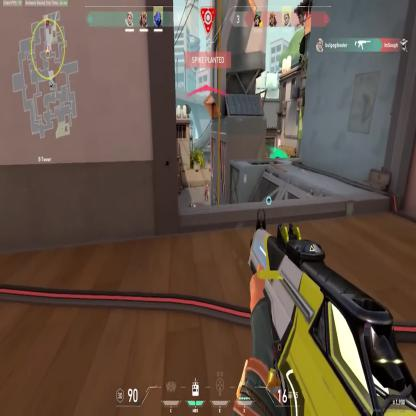enemy: (204, 184, 208, 201)
enemy_head: (206, 183, 208, 186)
